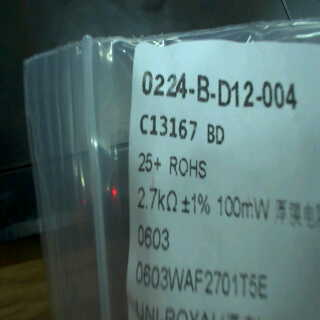2.7kR: (135, 183, 183, 214)
